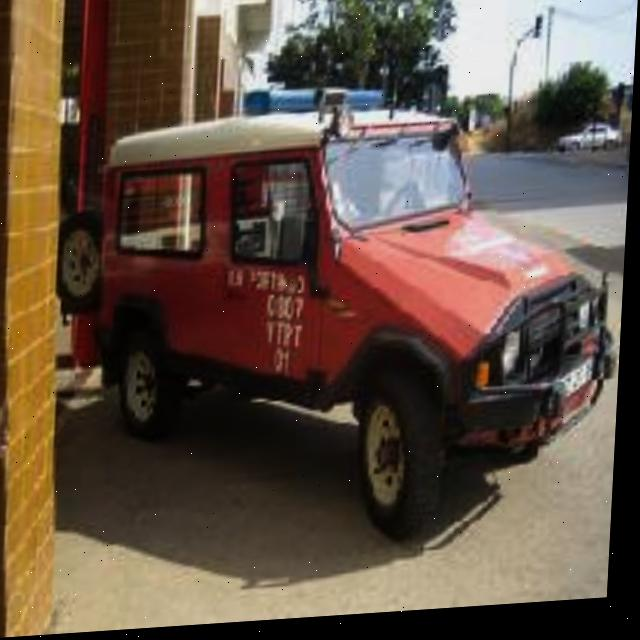emergency: (68, 90, 627, 544)
